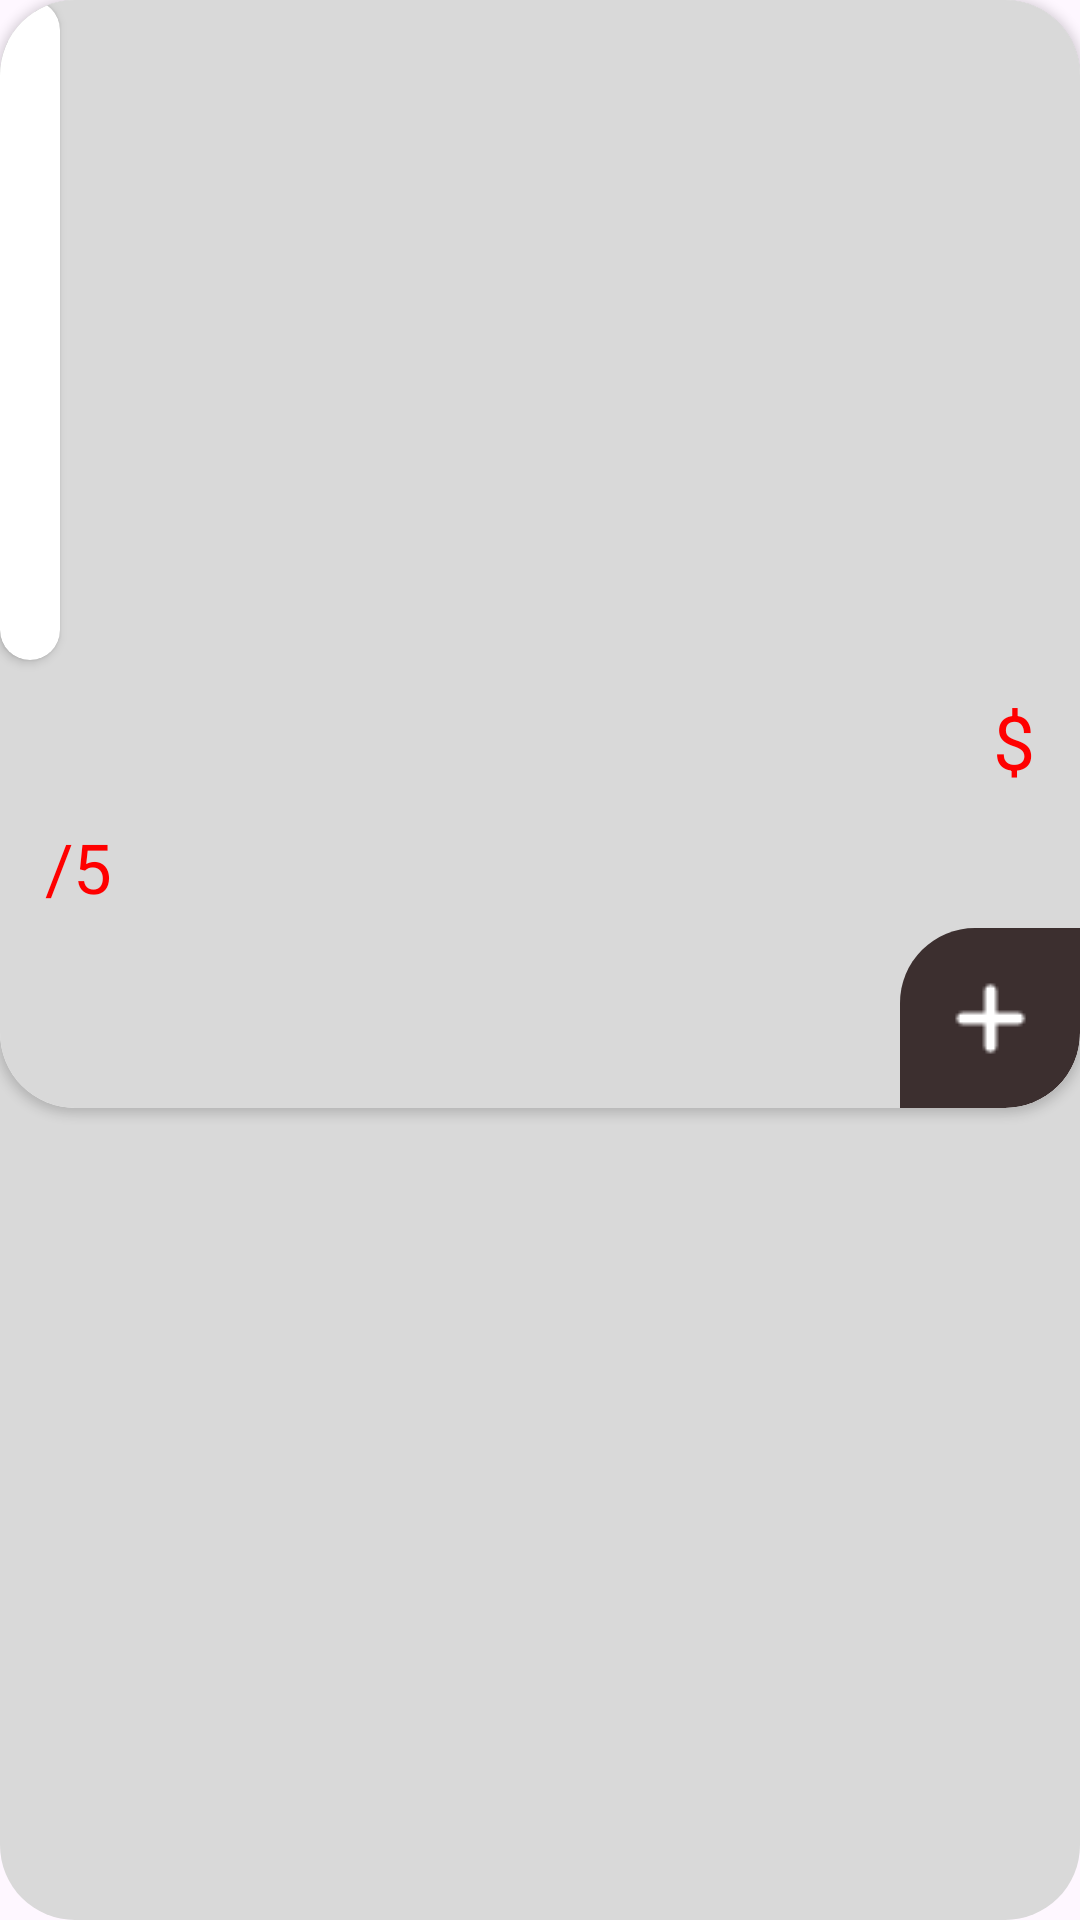

Icon click points for this 1080px×1920px phone screenshot, format (x,y):
add: (990,1018)
